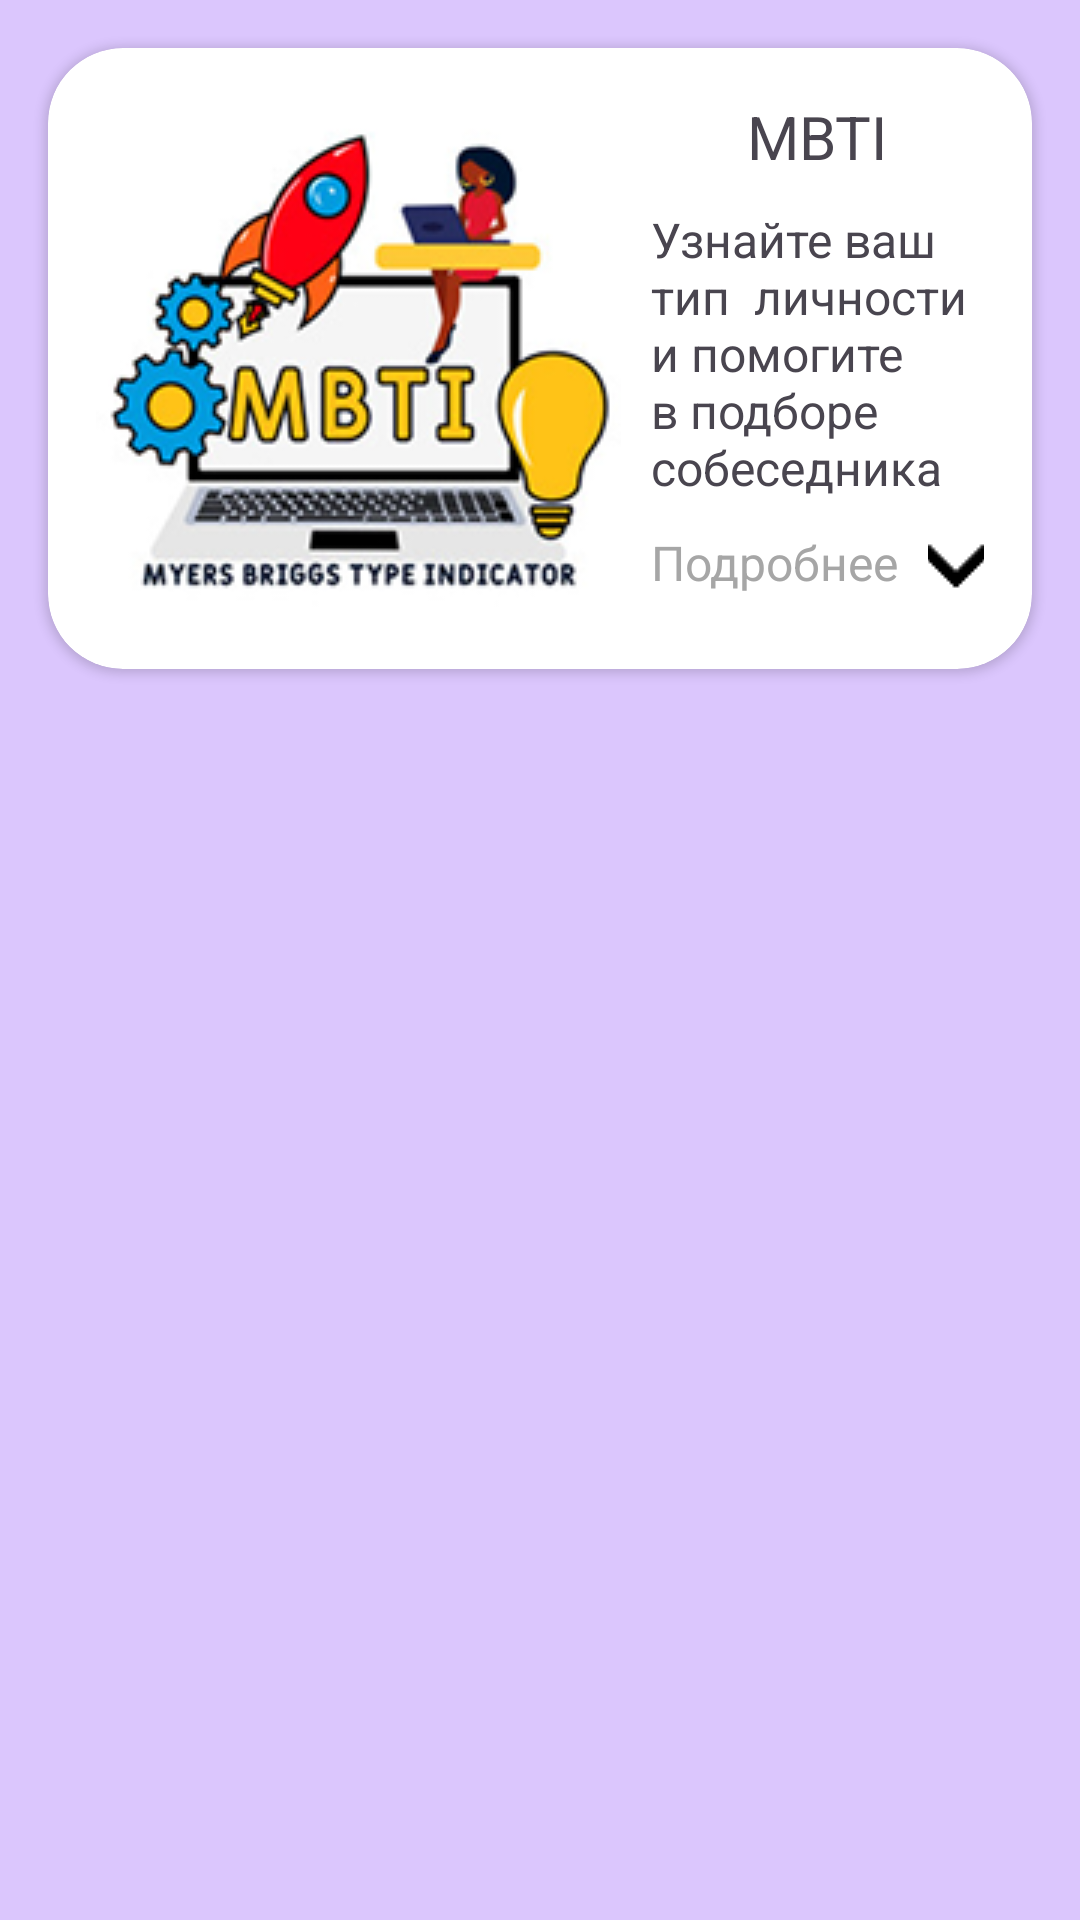

Icon click points for this 1080 × 1920 phone screenshot, format [x,y]:
more: [956,566]
